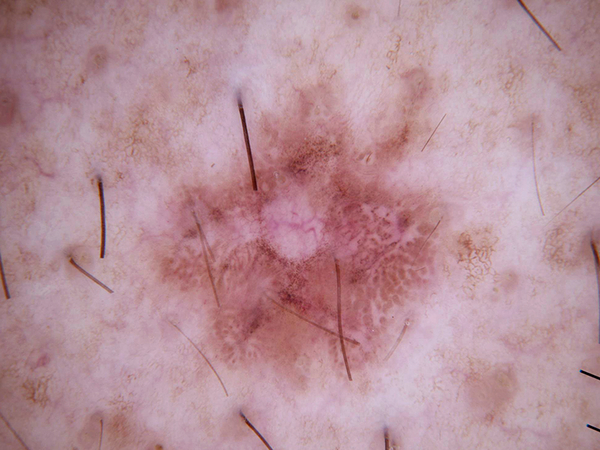Detected Lesion: (140, 129, 436, 356)
